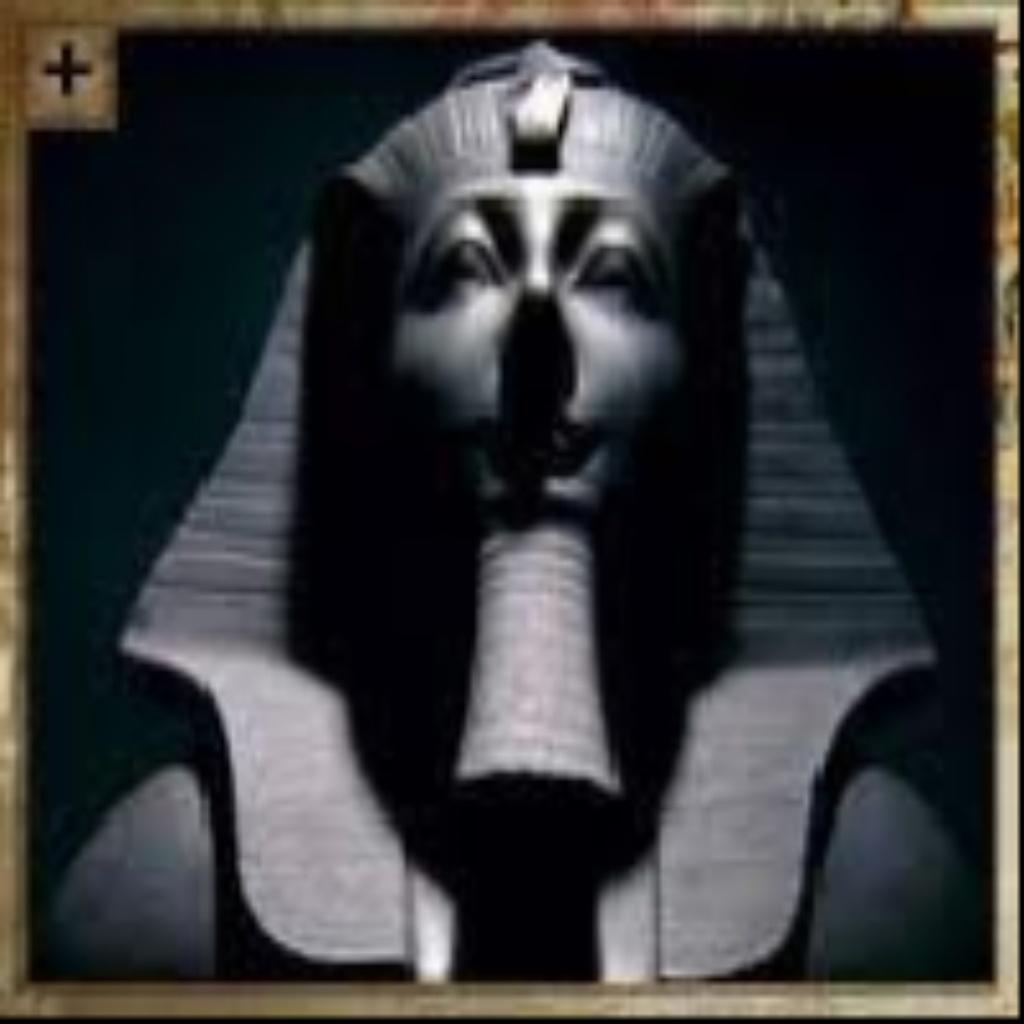King Thutmose III: (41, 34, 978, 983)
